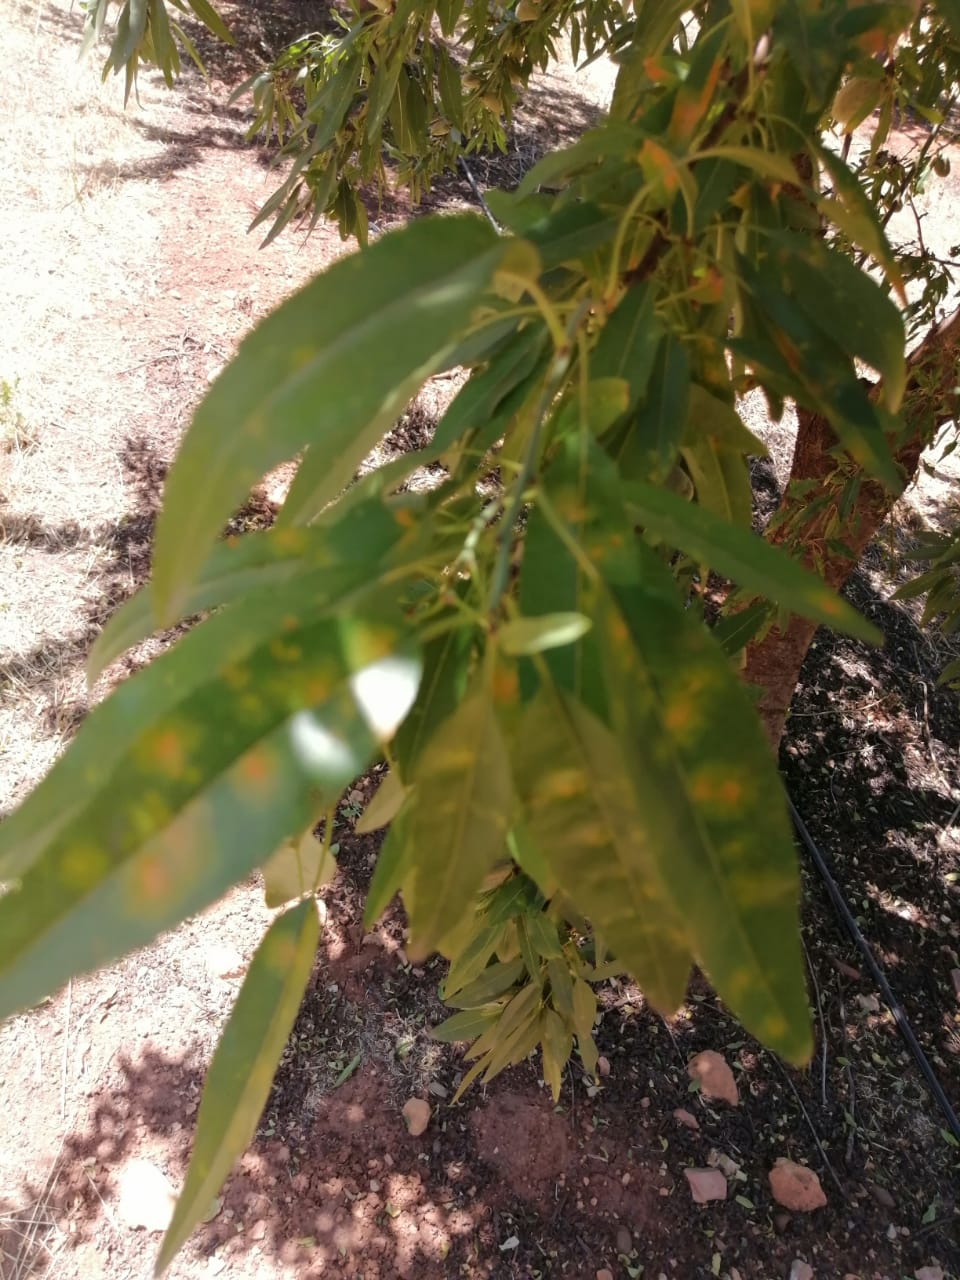polystigma: (1, 614, 425, 1017), (151, 218, 517, 623), (576, 577, 815, 1071)
